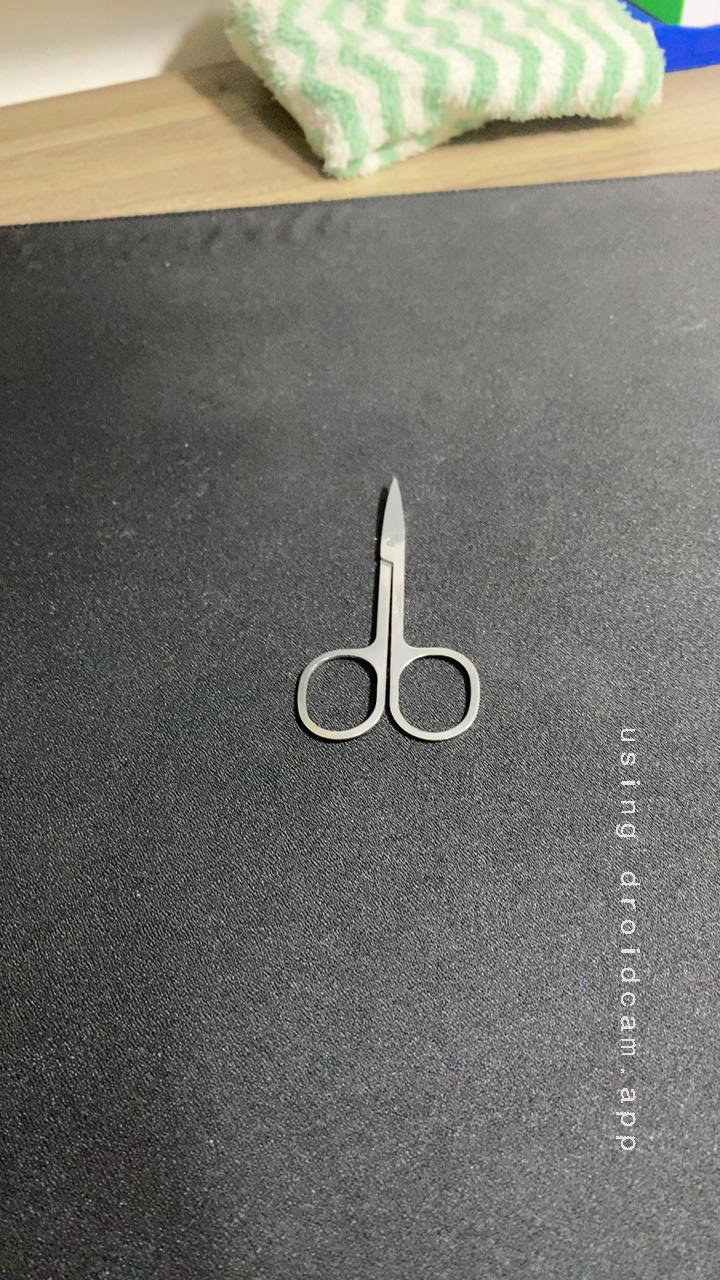scissor: (268, 451, 492, 752)
